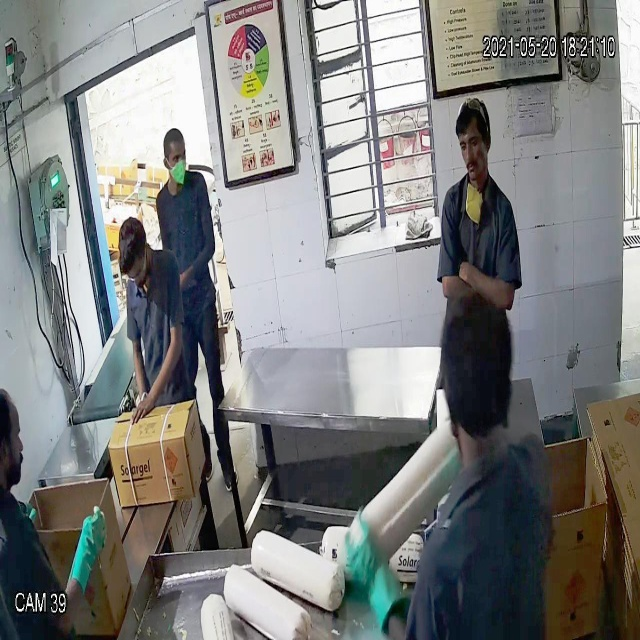Sin_gafas: (455, 129, 491, 153)
